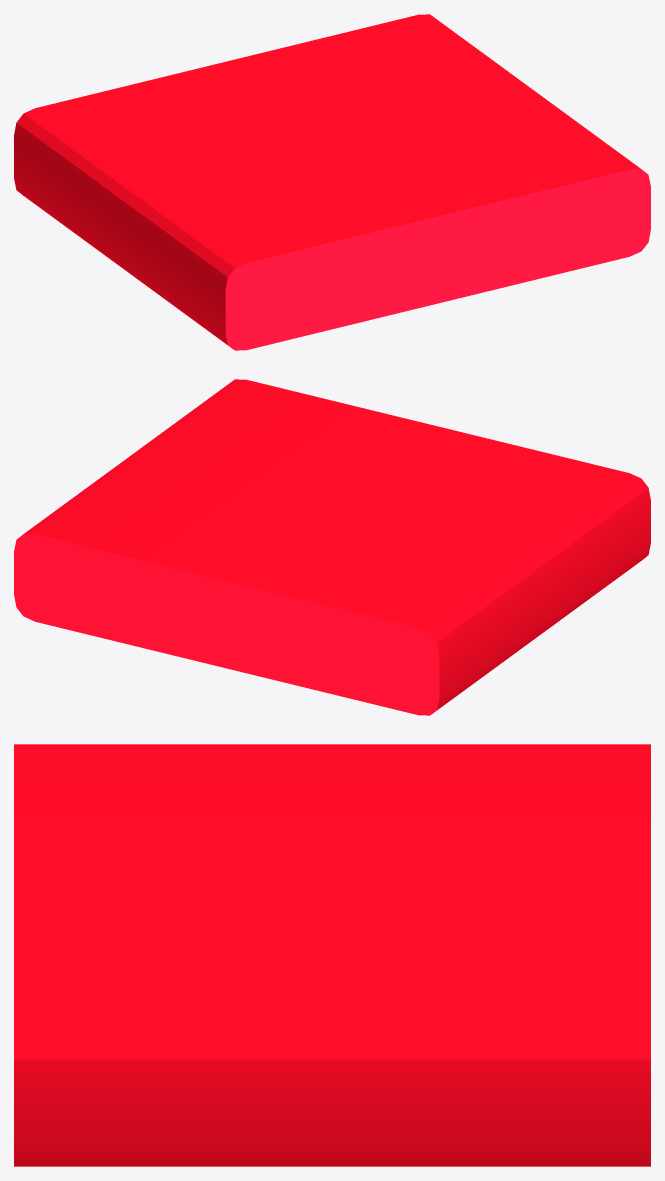
3 views of the same model, one above another, from view 1: azimuth 30°, elevation 25°; view 2: azimuth 150°, elevation 25°; view 3: azimuth 270°, elevation 25° (orthographic). The views are drawn at different scales.
Parts seen in each view (by area): view 1: -_Soul_Red; view 2: -_Soul_Red; view 3: -_Soul_Red.
Part boxes in pixels (<box>): -_Soul_Red: <box>14,14,650,350</box>; -_Soul_Red: <box>14,379,650,715</box>; -_Soul_Red: <box>14,744,650,1166</box>.
Size of what is drawn, in the model's own units: 0.0523 by 0.0102 by 0.045.
2 materials, 2 textured.
